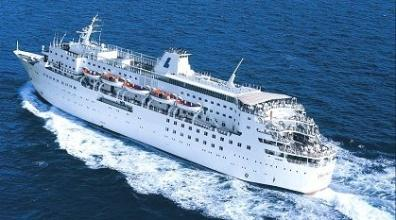youlun: (6, 19, 347, 194)
